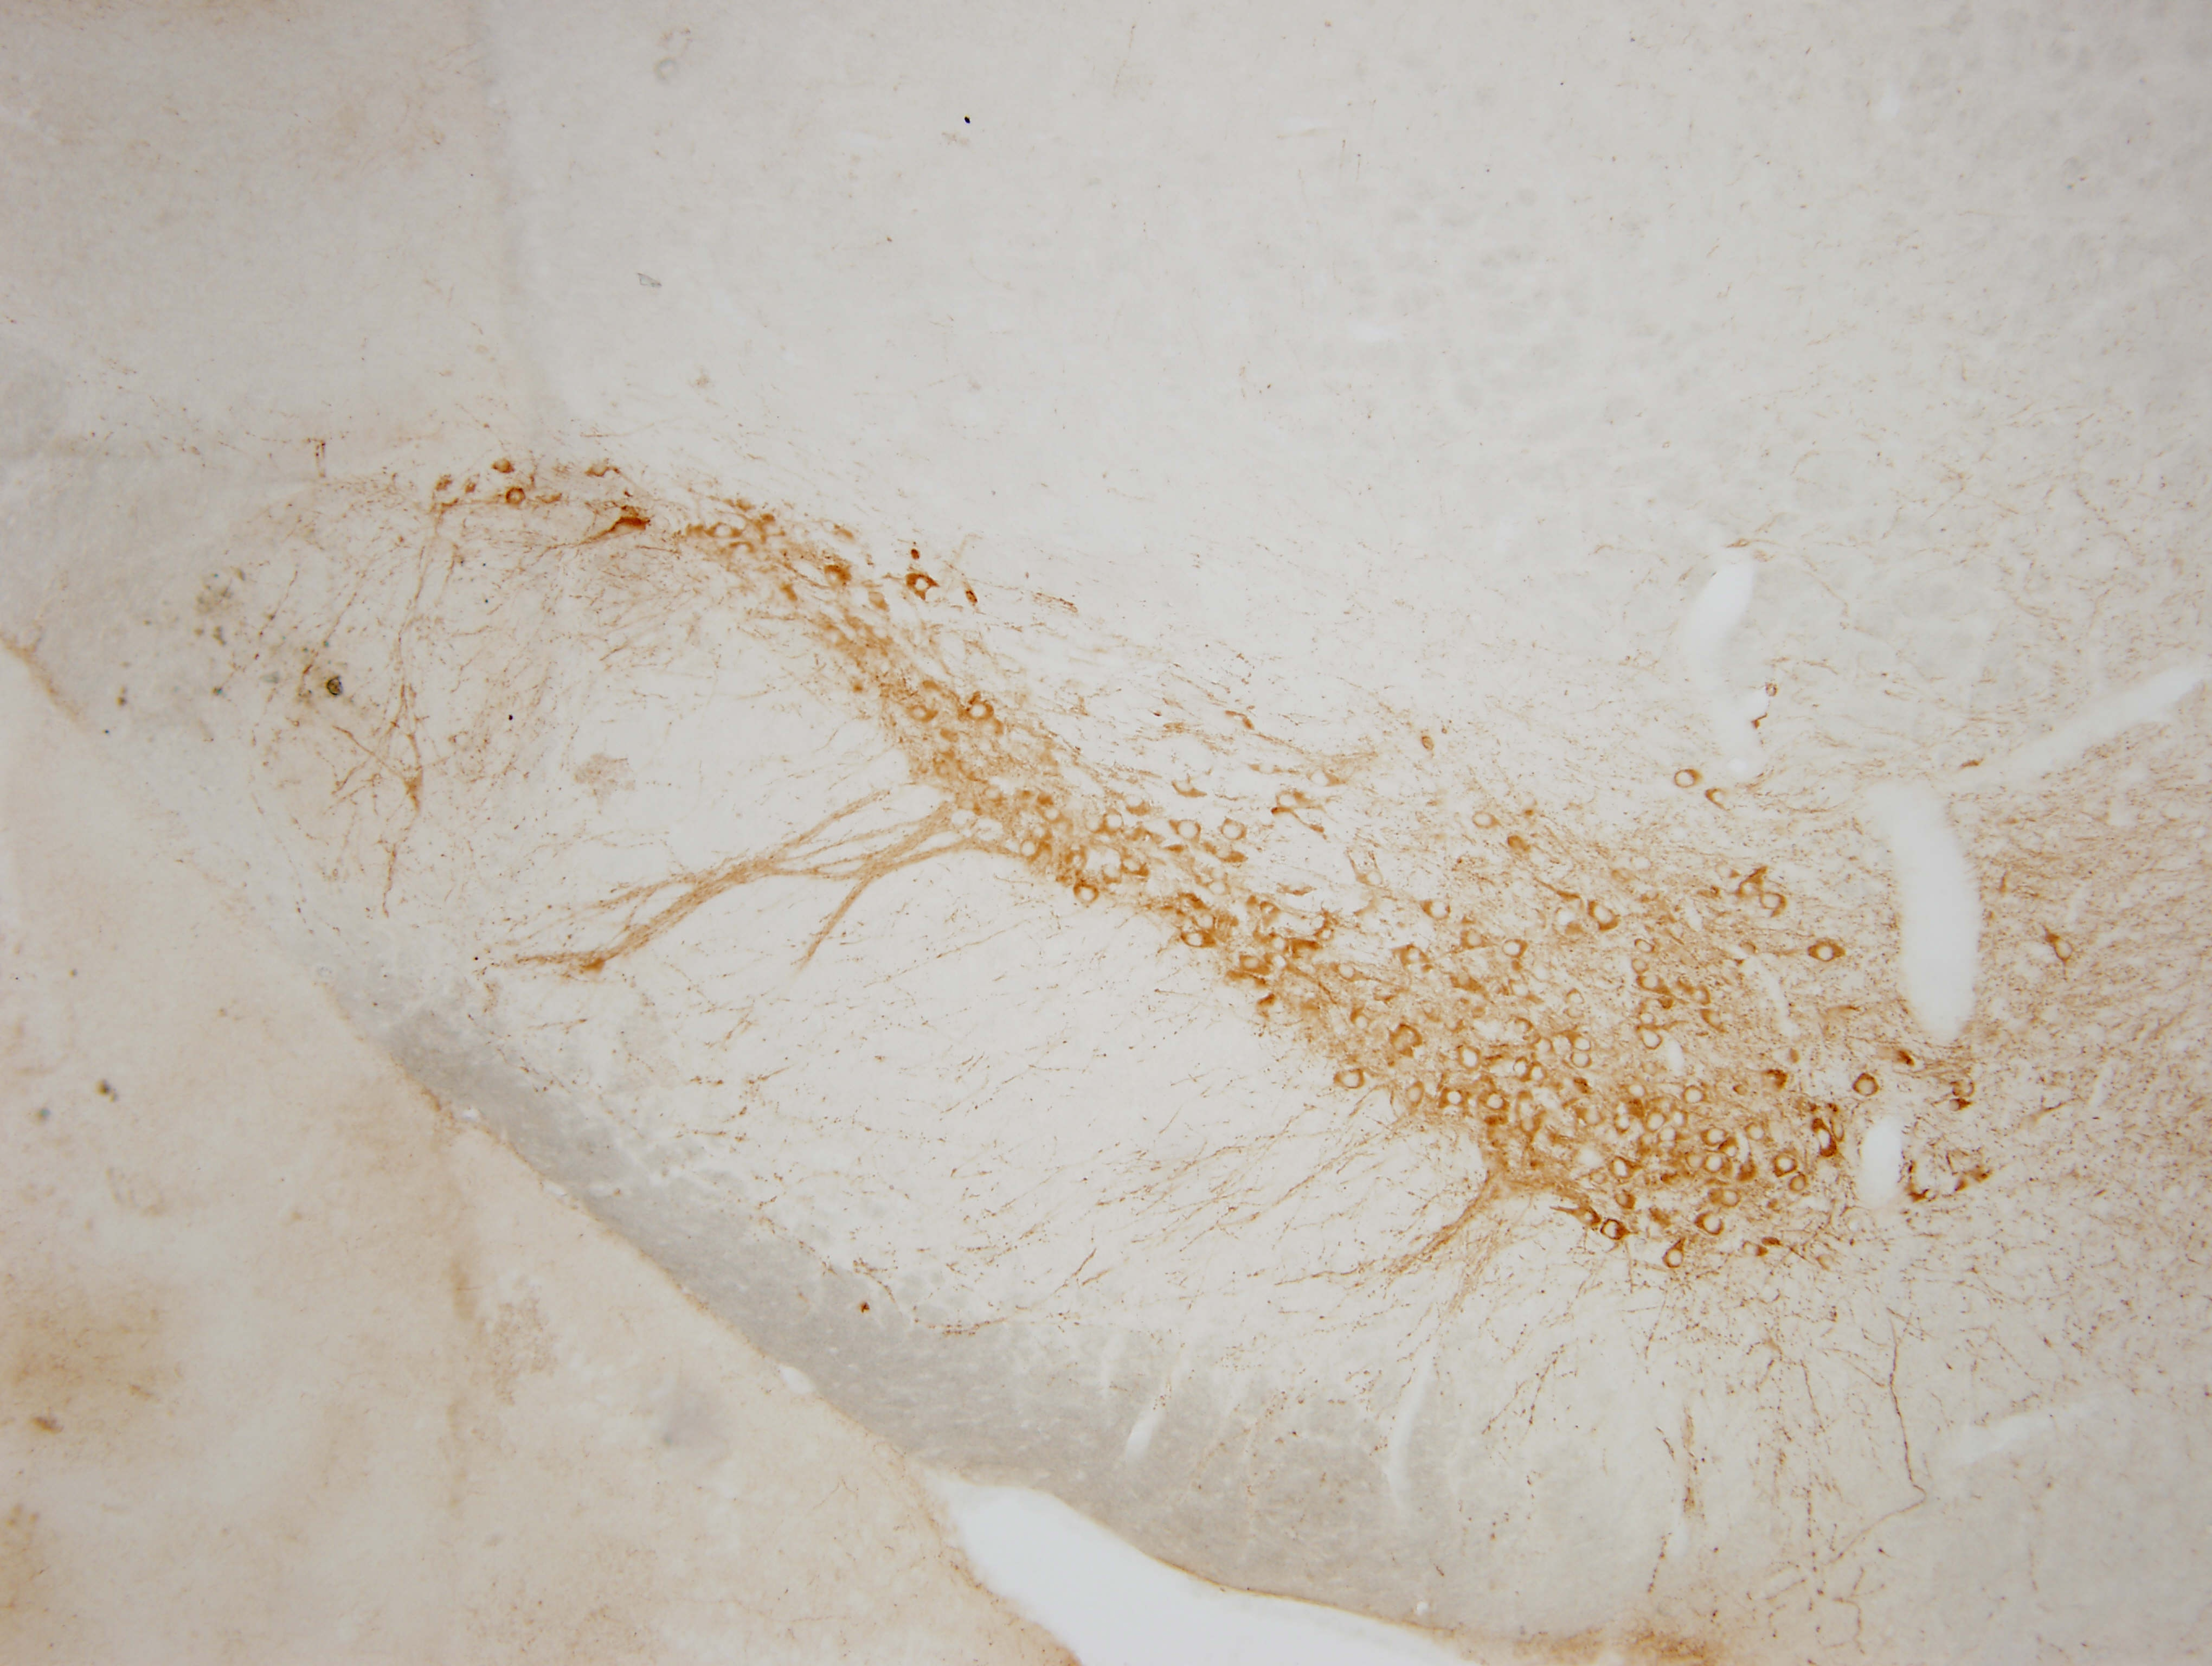neuron: (1334, 1066, 1367, 1099), (1423, 894, 1457, 928), (1640, 1106, 1673, 1139), (1696, 1209, 1729, 1242), (1701, 1120, 1735, 1153), (1808, 938, 1841, 971), (904, 571, 937, 602), (1397, 943, 1429, 976), (1455, 1045, 1488, 1076), (1500, 935, 1532, 968), (1588, 900, 1621, 931), (1637, 1026, 1670, 1057), (1680, 1078, 1712, 1111), (1740, 1116, 1773, 1148), (1757, 889, 1789, 922), (1771, 1152, 1805, 1183), (1852, 1073, 1883, 1106), (2046, 936, 2079, 968), (1598, 1213, 1630, 1244), (1672, 763, 1703, 795), (1808, 1123, 1840, 1155), (588, 459, 614, 485), (713, 516, 740, 542), (733, 535, 759, 562), (820, 562, 846, 588), (1018, 835, 1044, 861), (1037, 800, 1063, 826), (1072, 884, 1098, 910), (1100, 863, 1126, 889), (1102, 808, 1128, 835), (1123, 852, 1149, 878), (1175, 777, 1201, 803), (1175, 816, 1201, 842), (1222, 819, 1249, 845), (1256, 896, 1282, 922), (1266, 929, 1292, 956), (1266, 952, 1292, 978), (1317, 924, 1343, 950), (1334, 959, 1360, 985), (1404, 1083, 1430, 1109), (1441, 1089, 1467, 1115), (1453, 968, 1479, 994), (1471, 808, 1497, 835), (1483, 1089, 1509, 1115), (1509, 1054, 1535, 1080), (1516, 1111, 1542, 1138), (1525, 1061, 1551, 1087), (1569, 1048, 1595, 1074), (1569, 1031, 1595, 1057), (1576, 1204, 1602, 1230), (1579, 1102, 1605, 1129), (1610, 1190, 1637, 1216), (1626, 1080, 1652, 1106), (1630, 956, 1656, 982), (1631, 933, 1658, 959), (1637, 1006, 1663, 1032), (1661, 1246, 1687, 1272), (1684, 1150, 1710, 1176), (1689, 984, 1715, 1010), (1701, 1152, 1728, 1178), (1719, 1139, 1745, 1166), (1719, 1185, 1745, 1211), (1740, 875, 1766, 901), (1899, 1048, 1925, 1074), (504, 487, 530, 513), (904, 700, 929, 726), (965, 698, 990, 725), (1026, 819, 1051, 845), (1067, 851, 1091, 877), (1121, 789, 1145, 816), (1182, 929, 1208, 954), (1207, 875, 1233, 900), (1238, 952, 1264, 976), (1275, 789, 1301, 814), (1308, 768, 1334, 793), (1346, 1010, 1371, 1036), (1360, 868, 1385, 894), (1462, 926, 1486, 952), (1586, 1169, 1610, 1195), (1609, 1115, 1633, 1141), (1609, 1155, 1633, 1181), (491, 455, 516, 481), (1944, 1097, 1969, 1122), (1416, 735, 1437, 754), (1764, 681, 1784, 700)
